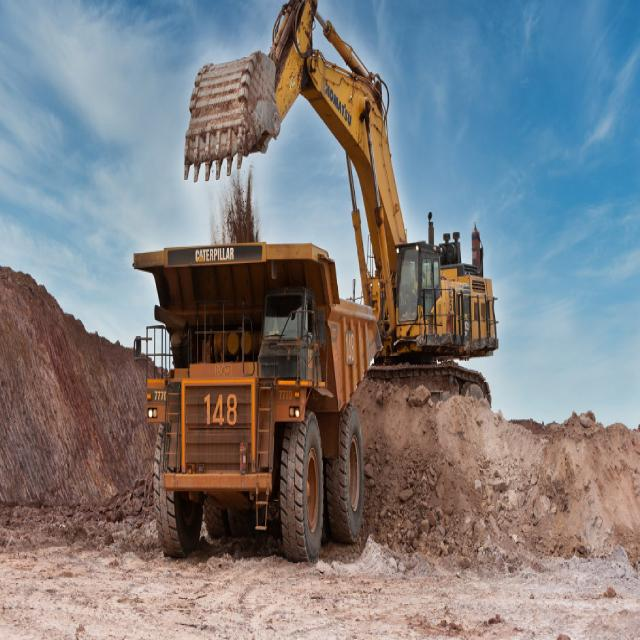dump_truck: (127, 239, 385, 582)
excavator: (180, 8, 497, 420)
